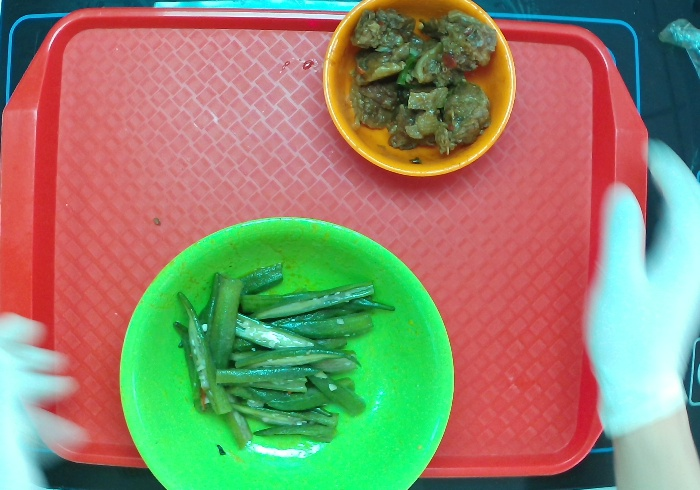YKMZ-Ju_Se_Yuan_Wan: (324, 1, 524, 187)
YKMZ-Lv_Se_Tang_Wan: (121, 217, 467, 490)
